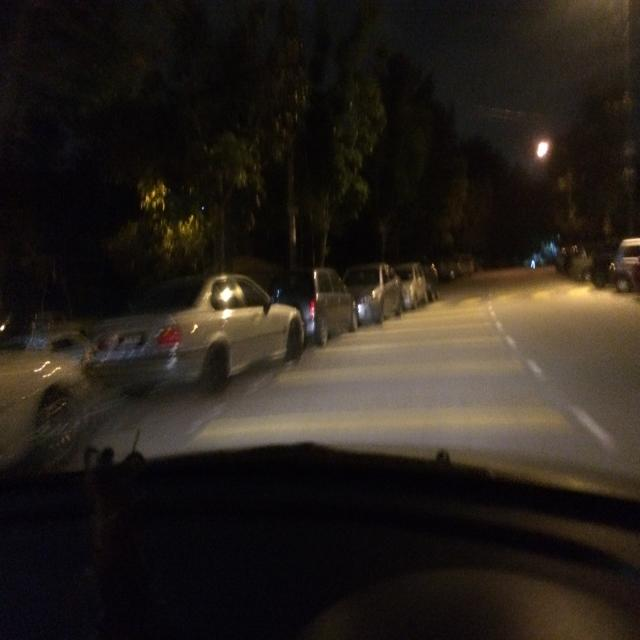Car: (84, 271, 305, 386)
